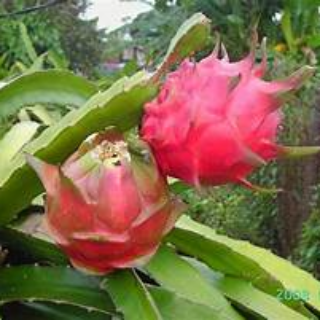thanh_long: (37, 123, 169, 277), (147, 53, 285, 185)
